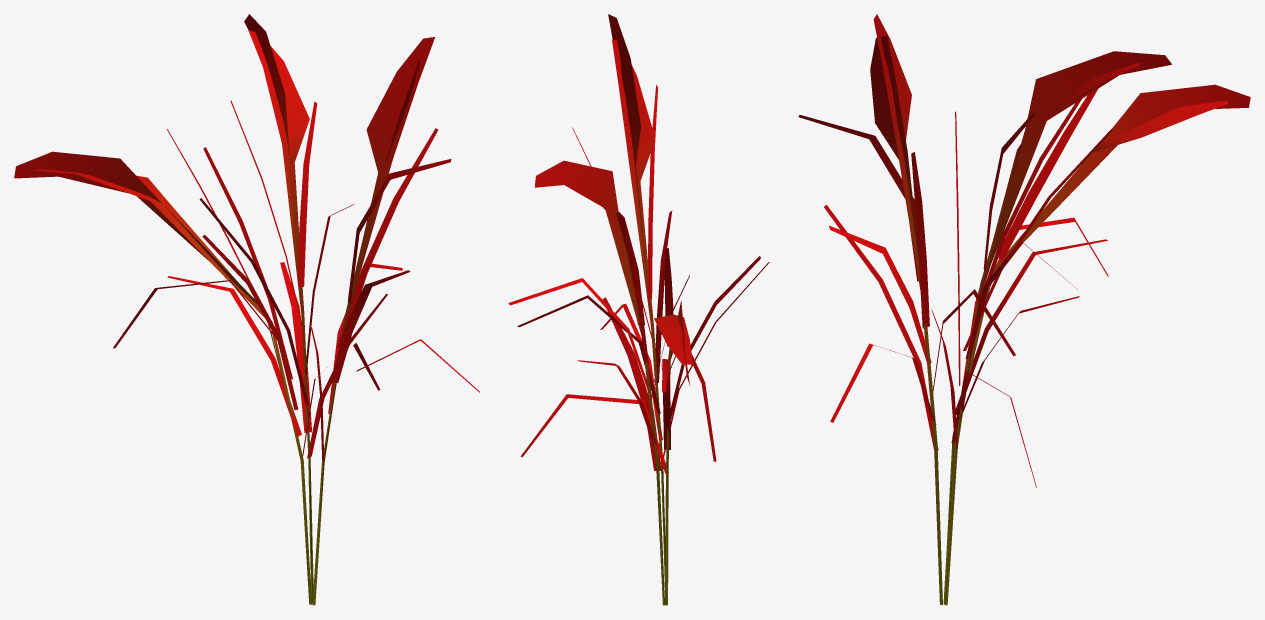
File: vegetation_7.fbx
3 views of the same model, side by side, from view 1: azimuth 30°, elevation 25°; view 2: azimuth 150°, elevation 25°; view 3: azimuth 270°, elevation 25° (orthographic). The views are drawn at different scales.
Parts seen in each view (by area): view 1: _qxrz_Var13_; view 2: _qxrz_Var13_; view 3: _qxrz_Var13_.
Part boxes in pixels (<box>): _qxrz_Var13_: <box>14,14,479,605</box>; _qxrz_Var13_: <box>508,14,769,605</box>; _qxrz_Var13_: <box>798,14,1250,605</box>.
Bounding box in the file's own units: 15.76 × 30.1 × 19.43.
